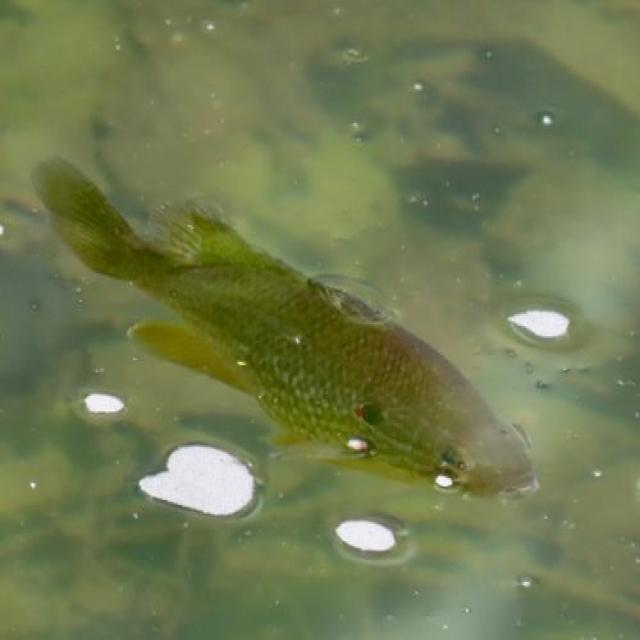Gunes Levregi: (25, 132, 550, 507)
